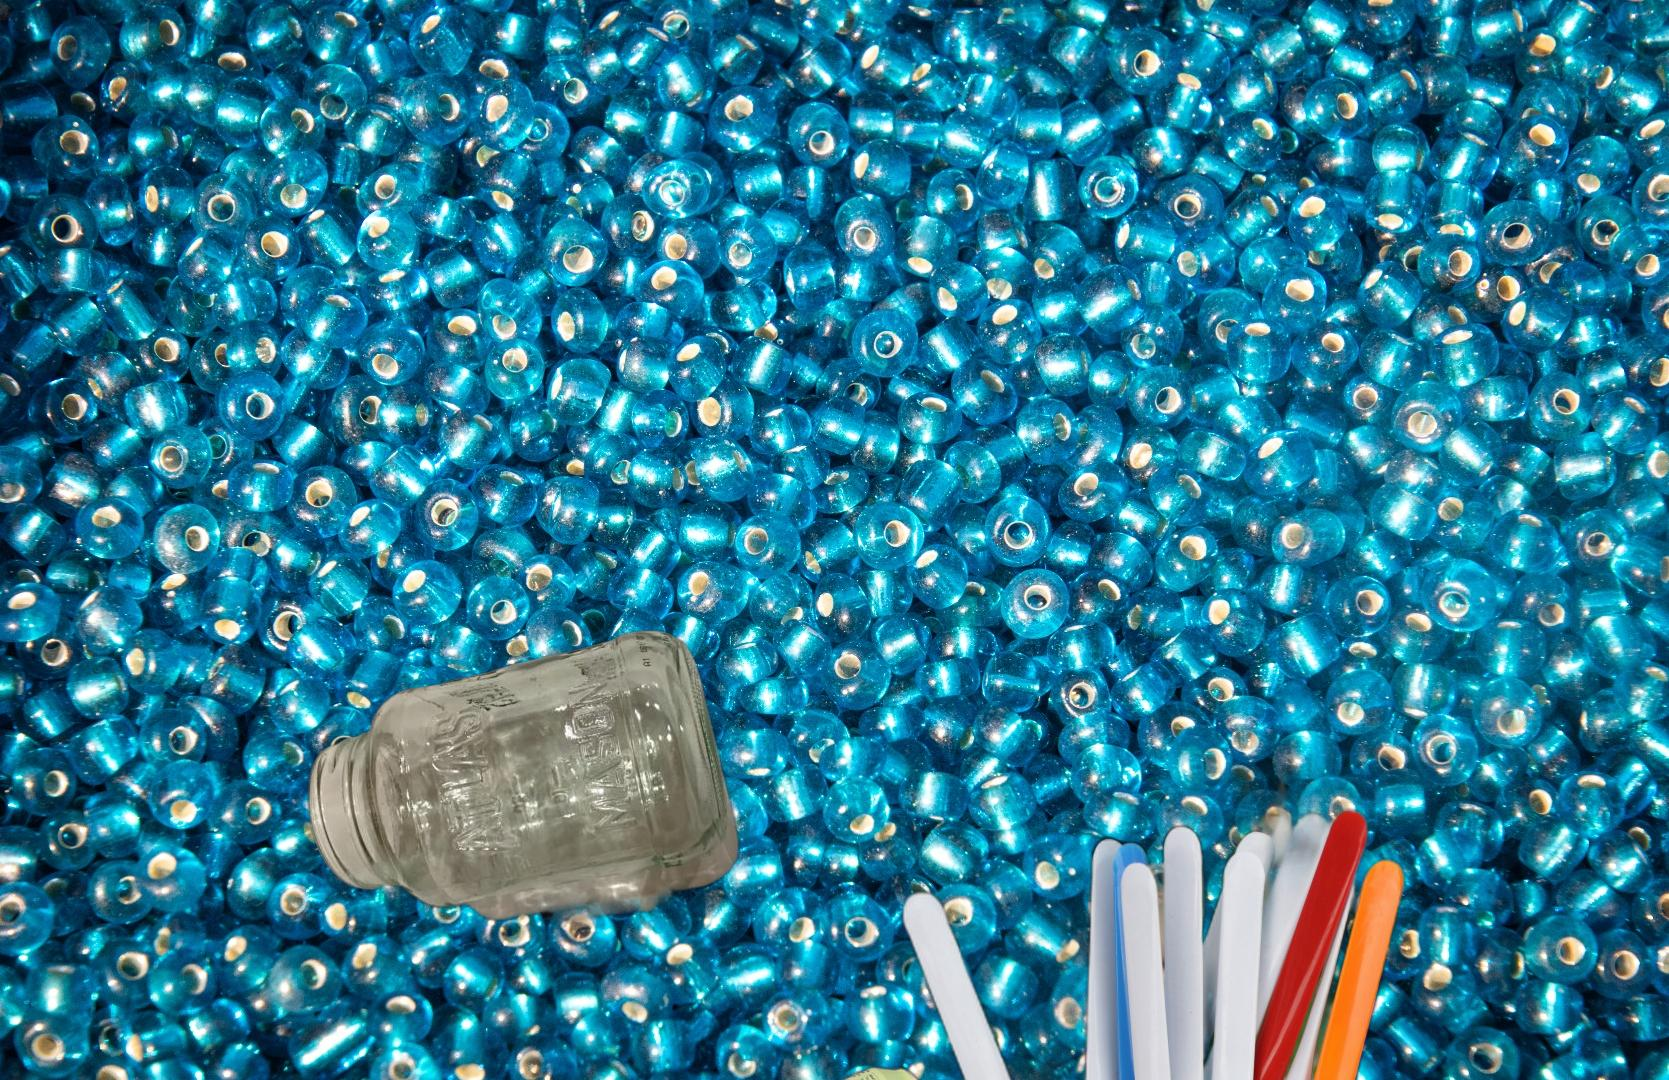glass: (303, 628, 743, 945)
metal-cans: (708, 849, 946, 1080)
penholder: (849, 765, 1412, 1080)
shoes: (710, 1037, 1090, 1080)
